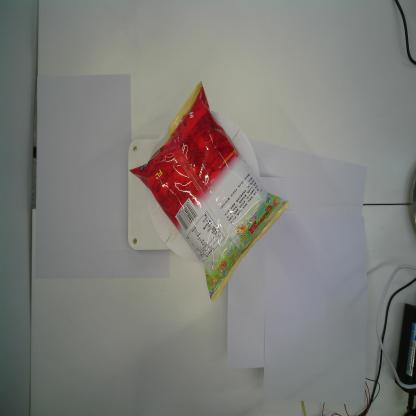Puffed Food: (125, 78, 293, 304)
